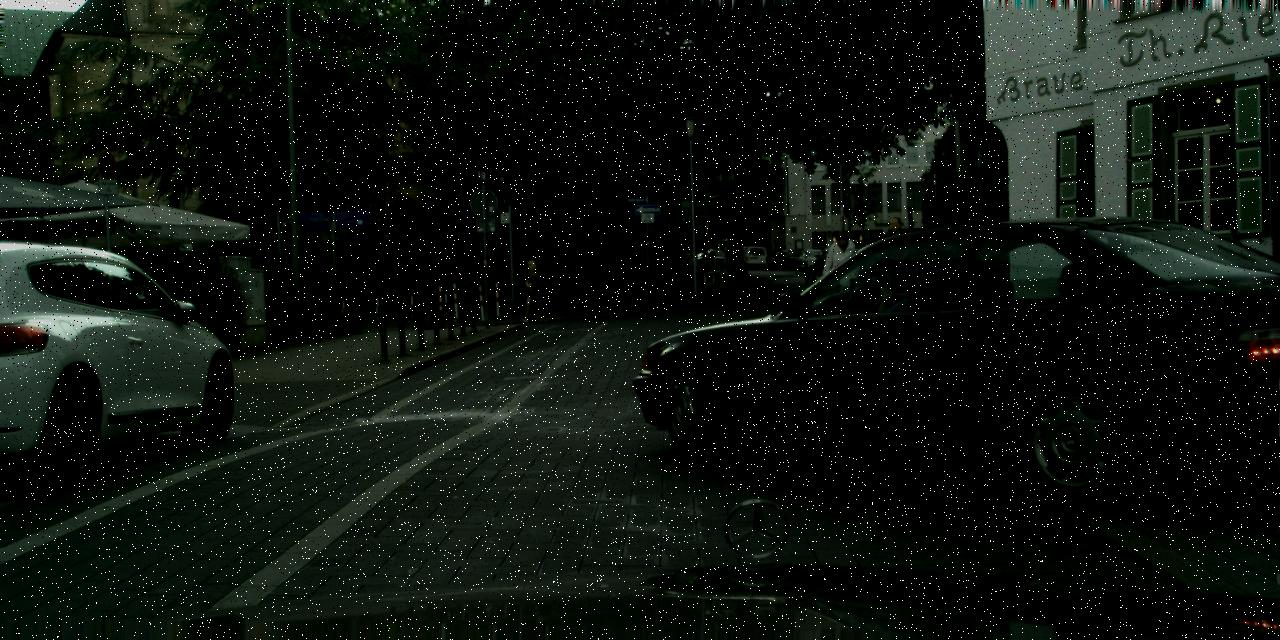ped: (877, 216, 912, 303), (825, 230, 858, 312), (520, 260, 544, 322), (523, 266, 546, 321)
